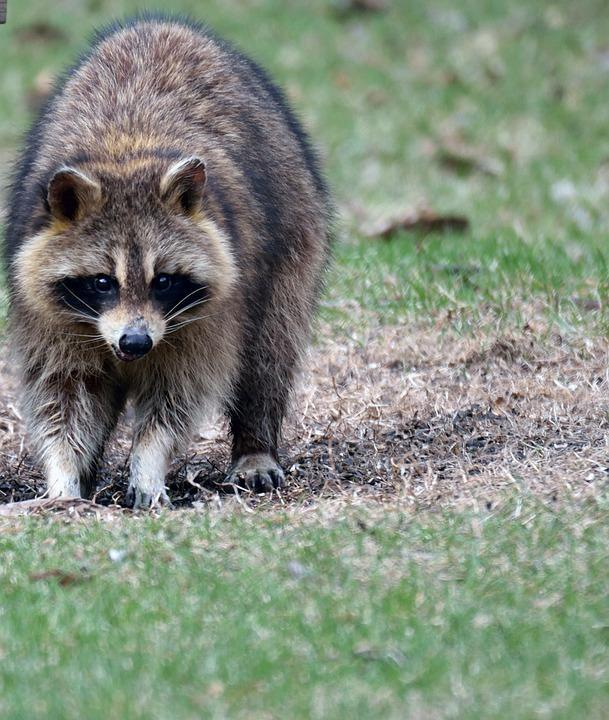raccoon: (0, 0, 334, 515)
